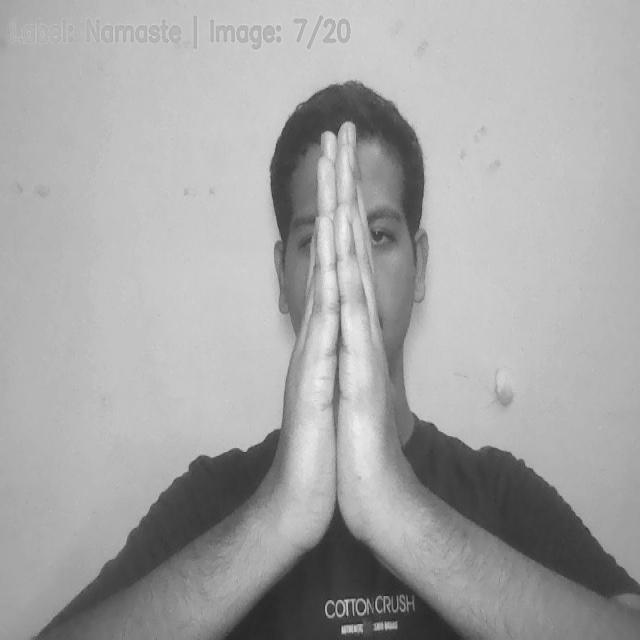Namaste: (296, 128, 392, 585)
